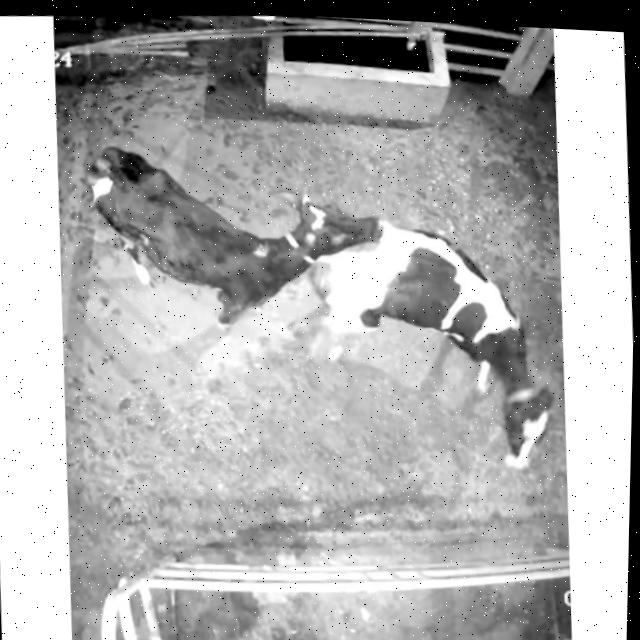propping: (256, 177, 420, 308)
